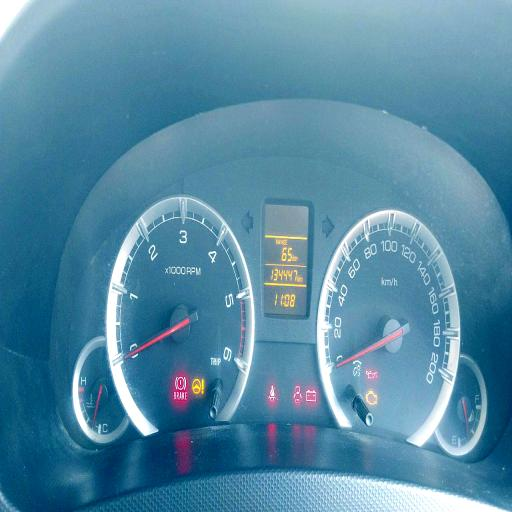belt: (268, 384, 276, 405)
brake_system_fault: (174, 376, 186, 390)
check_engine: (365, 390, 377, 405)
oil: (366, 370, 378, 381)
tachometer: (108, 192, 255, 430)
vehicle_charging: (306, 389, 316, 403)
